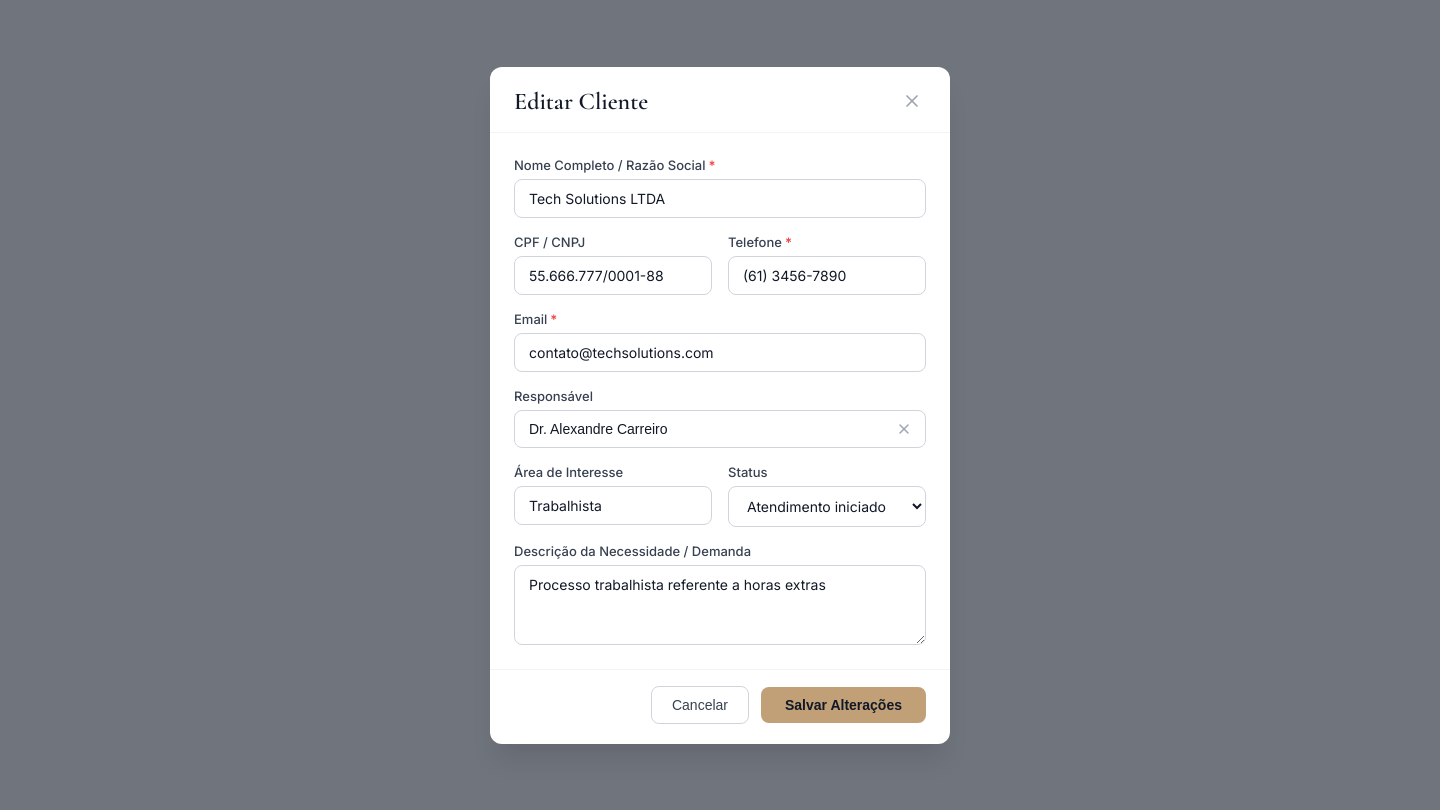
Test: EditClientModal › exibe erro de validação quando há nome apagado
Clear the field showing "Tech Solutions LTDA" at (720, 198), box [514,178,926,218]
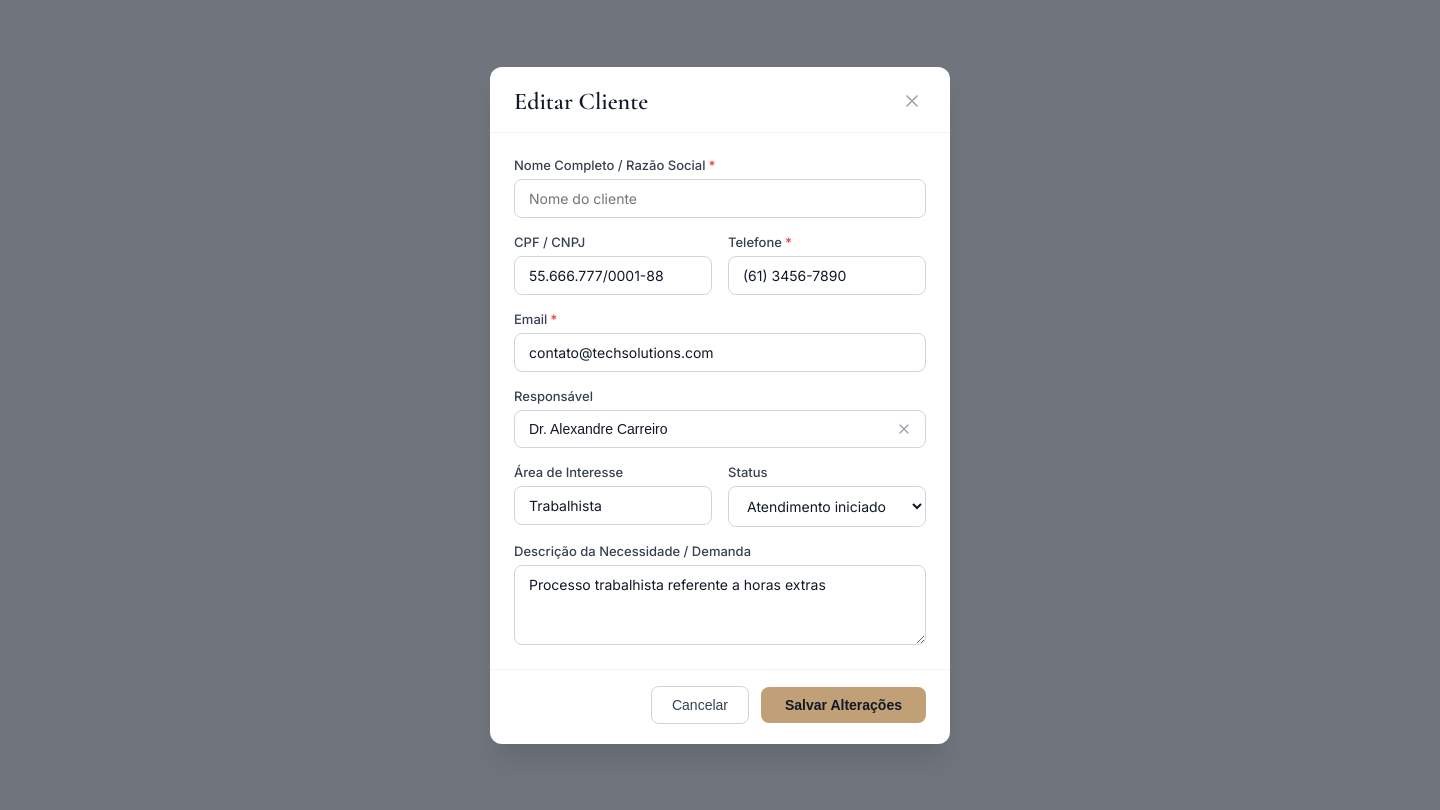
Click the button "Salvar Alterações" at (844, 704), box [761,686,926,722]
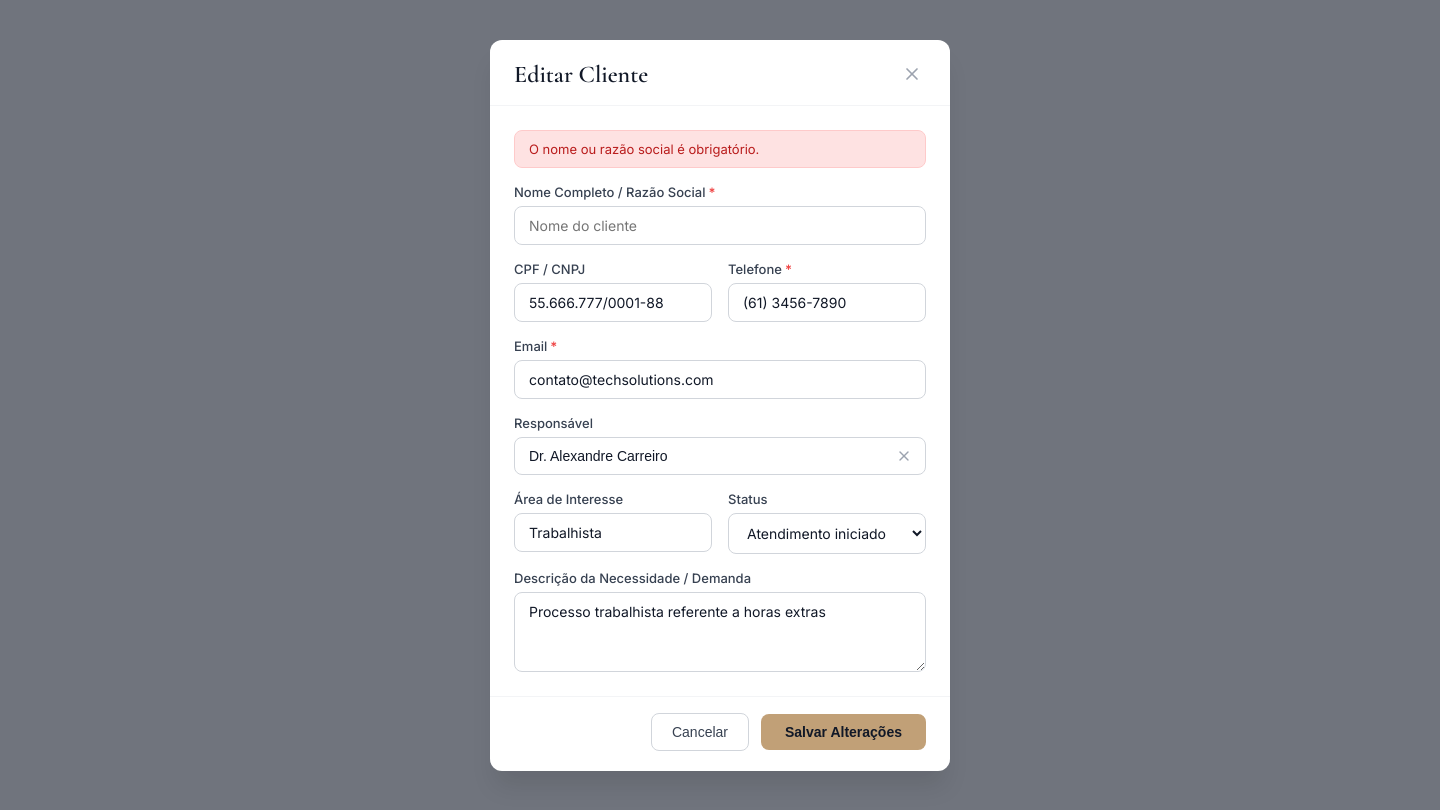
expect the text "O nome ou razão social é obrigatório." is shown: met, box [514,130,926,168]
